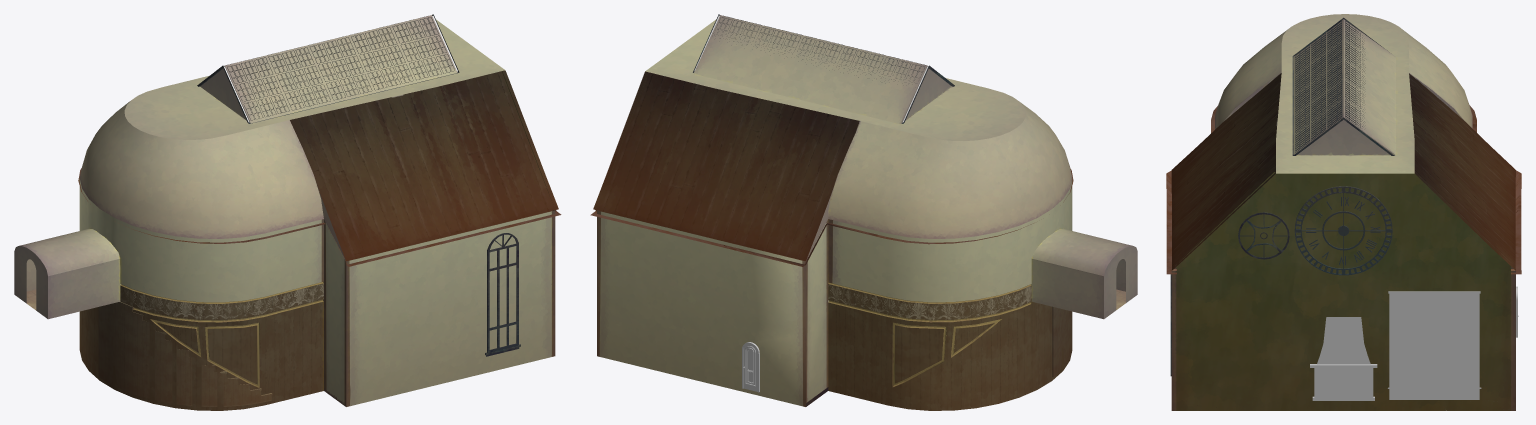
The model's file is RoomPlanetarium_Test03.fbx.
The picture shows the model from 3 angles, left to right: view 1: azimuth 30°, elevation 25°; view 2: azimuth 150°, elevation 25°; view 3: azimuth 270°, elevation 25°; orthographic projection. The views are drawn at different scales.
Visible parts, largest first — view 1: Ceiling, Walls, Stairs, Ceiling_Frame, Big_Frame_001; view 2: Ceiling, Walls, Ceiling_Frame, Stairs, Door.001; view 3: Walls, Ceiling, Bookshelf_Large, Ceiling_Frame, Fire Place, Clock_Frame, Circle_Frame, Clock_Numbers.
Boxes of the visible parts, <box> form: Ceiling: <box>78,15,561,266</box>; Walls: <box>14,71,555,410</box>; Stairs: <box>98,301,272,406</box>; Ceiling_Frame: <box>197,14,459,123</box>; Big_Frame_001: <box>485,233,520,356</box>; Ceiling: <box>590,15,1073,266</box>; Walls: <box>597,153,1137,410</box>; Ceiling_Frame: <box>693,14,954,123</box>; Stairs: <box>1052,306,1071,376</box>; Door.001: <box>743,344,757,391</box>; Walls: <box>1171,172,1515,410</box>; Ceiling: <box>1166,14,1521,274</box>; Bookshelf_Large: <box>1387,291,1481,399</box>; Ceiling_Frame: <box>1292,17,1394,155</box>; Fire Place: <box>1310,317,1377,400</box>; Clock_Frame: <box>1294,186,1392,275</box>; Circle_Frame: <box>1238,212,1289,259</box>; Clock_Numbers: <box>1306,197,1380,265</box>.
Size of the model in its own units: 5883 by 3654 by 4235.
